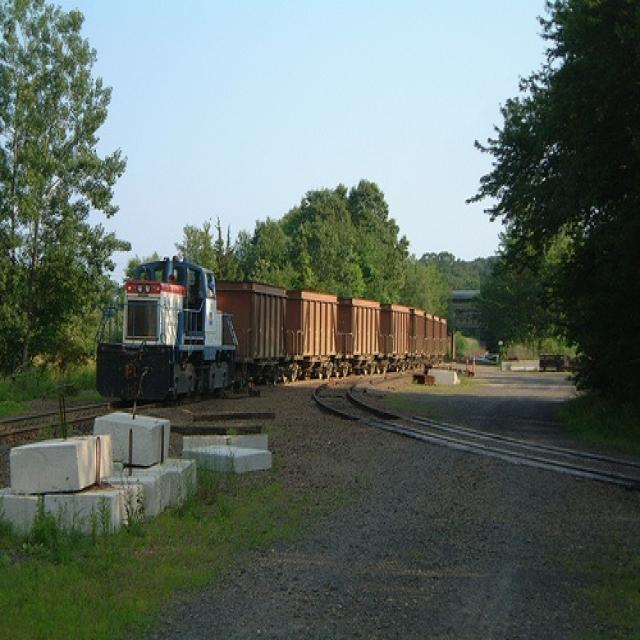train: (93, 255, 448, 407)
